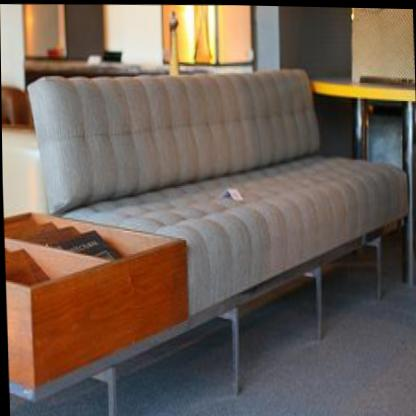Sofa: (26, 60, 416, 416)
